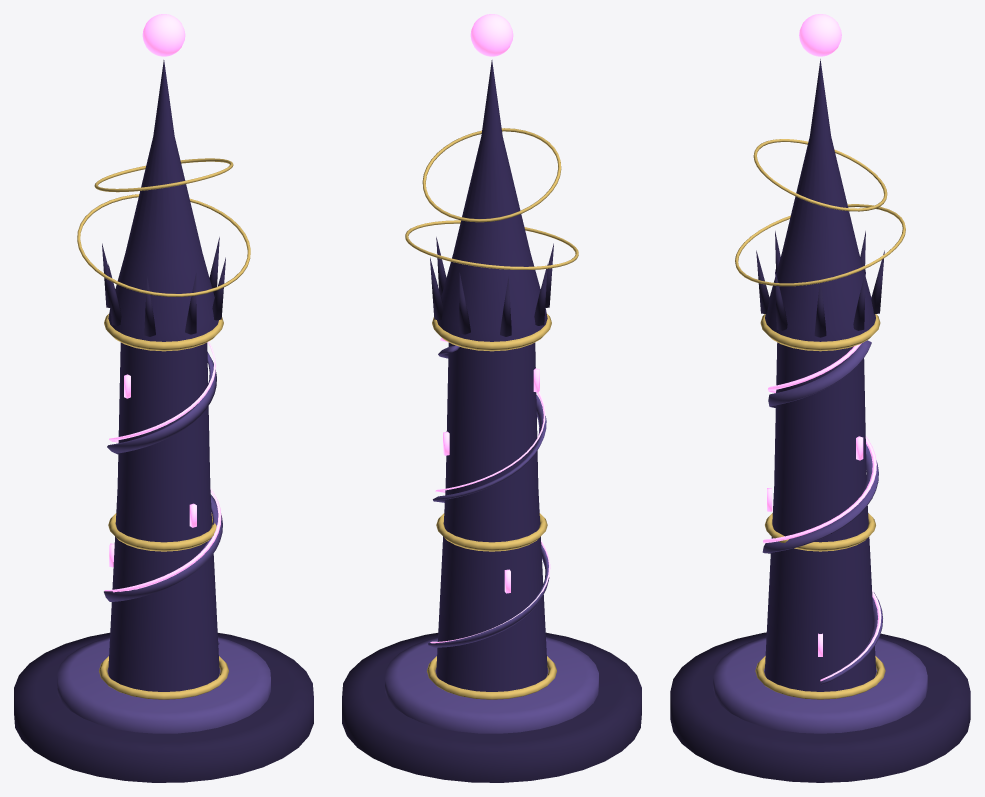
Rendered from spire.glb.
The picture shows the model from 3 angles, left to right: view 1: azimuth 30°, elevation 25°; view 2: azimuth 150°, elevation 25°; view 3: azimuth 270°, elevation 25°; orthographic projection.
Visible parts, largest first — view 1: spire:mesh, spire:orb.mesh; view 2: spire:mesh, spire:orb.mesh; view 3: spire:mesh, spire:orb.mesh.
Boxes of the visible parts, x1,y1,x2,y2 form: spire:mesh: [14, 60, 313, 782]; spire:orb.mesh: [142, 14, 185, 56]; spire:mesh: [342, 60, 641, 782]; spire:orb.mesh: [470, 14, 513, 56]; spire:mesh: [670, 59, 970, 782]; spire:orb.mesh: [799, 14, 841, 56].
Size of the model in its own units: 7 by 18.1 by 7.
